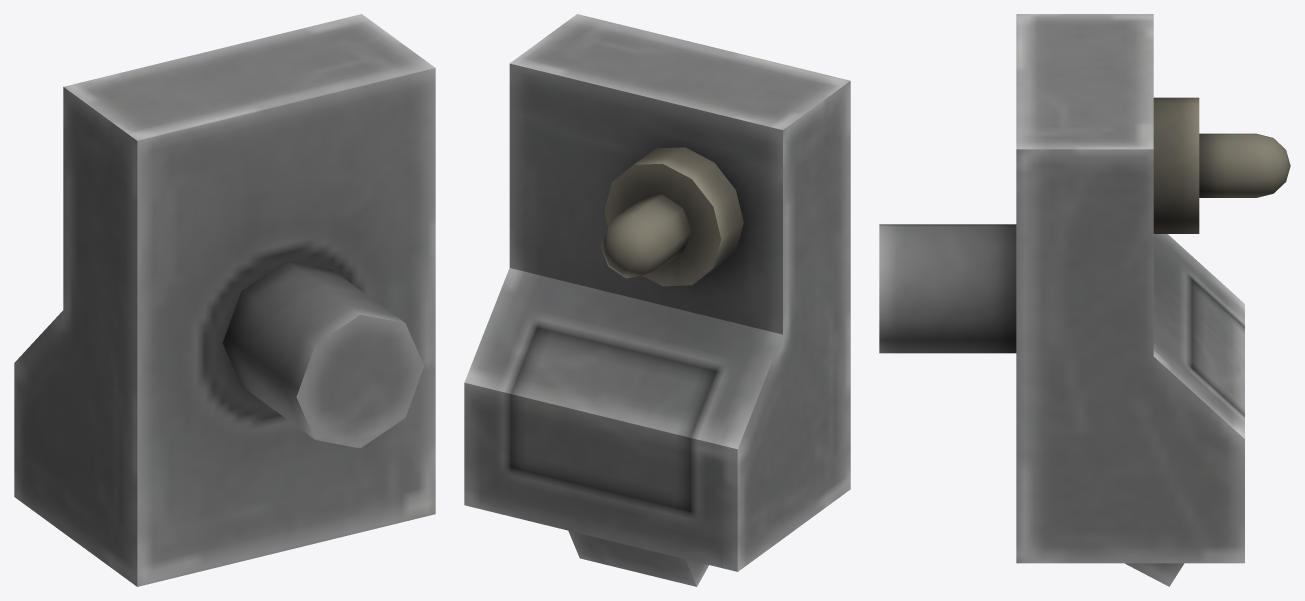
The model's file is 1mv_sensor_thermometer_srf_1.obj.
The picture shows the model from 3 angles, left to right: view 1: azimuth 30°, elevation 25°; view 2: azimuth 150°, elevation 25°; view 3: azimuth 270°, elevation 25°; orthographic projection. The views are drawn at different scales.
Visible parts, largest first — view 1: mesh1; view 2: mesh1; view 3: mesh1.
Boxes of the visible parts, <box> form: mesh1: <box>14,14,435,586</box>; mesh1: <box>464,14,850,586</box>; mesh1: <box>879,14,1290,586</box>.
Bounding box in the file's own units: 0.175 × 0.2875 × 0.225.
Materials: 1 (1 with a texture image).
